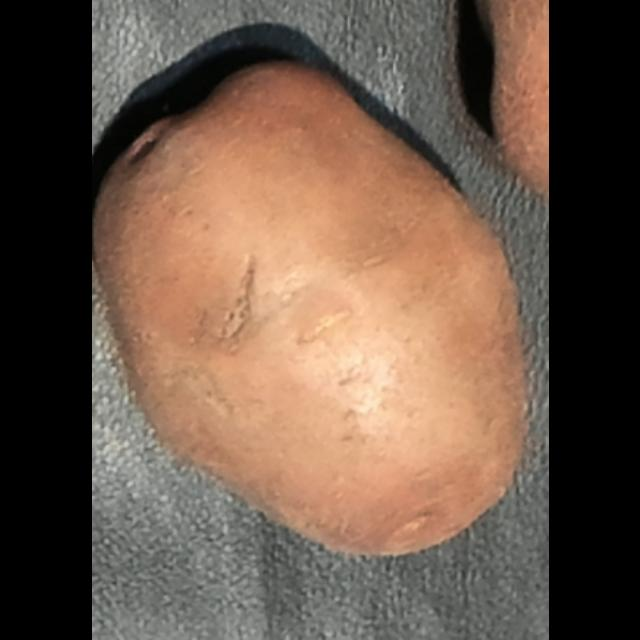Diseased-fungal potato: (91, 47, 538, 570)
